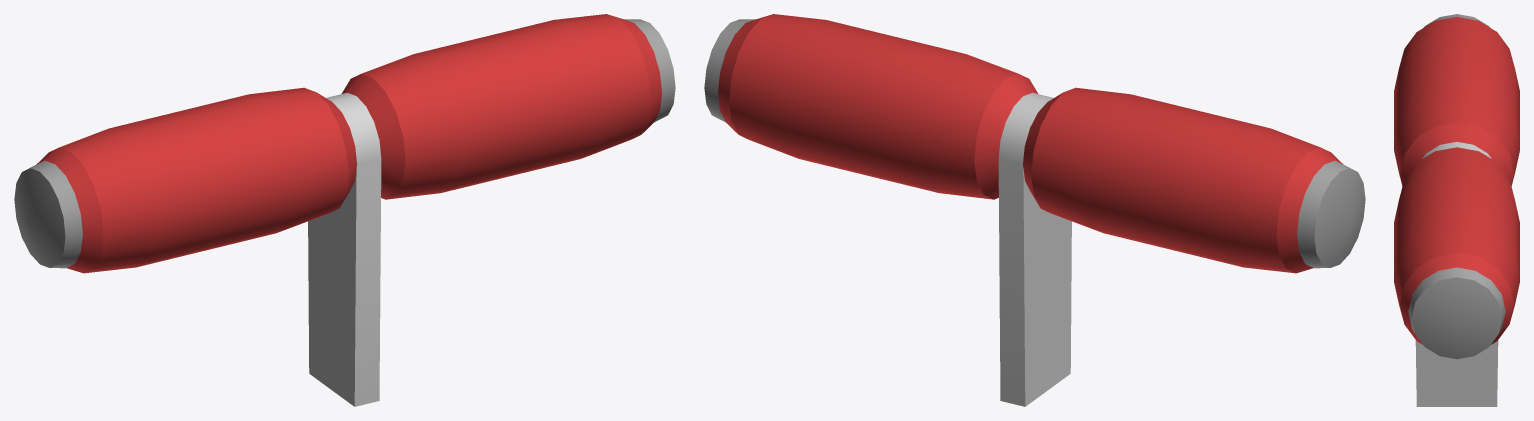
Rendered from LS_Arm_001.fbx.
3 renders of one model, left to right at view 1: azimuth 30°, elevation 25°; view 2: azimuth 150°, elevation 25°; view 3: azimuth 270°, elevation 25°, orthographic. The views are drawn at different scales.
Visible parts, largest first — view 1: LS_Arm_001; view 2: LS_Arm_001; view 3: LS_Arm_001.
Part boxes in pixels (x1,y1,x2,y2): LS_Arm_001: (14, 14, 675, 406); LS_Arm_001: (704, 14, 1365, 406); LS_Arm_001: (1394, 14, 1519, 406).
Size of the model in its own units: 265 by 123 by 51.68.
